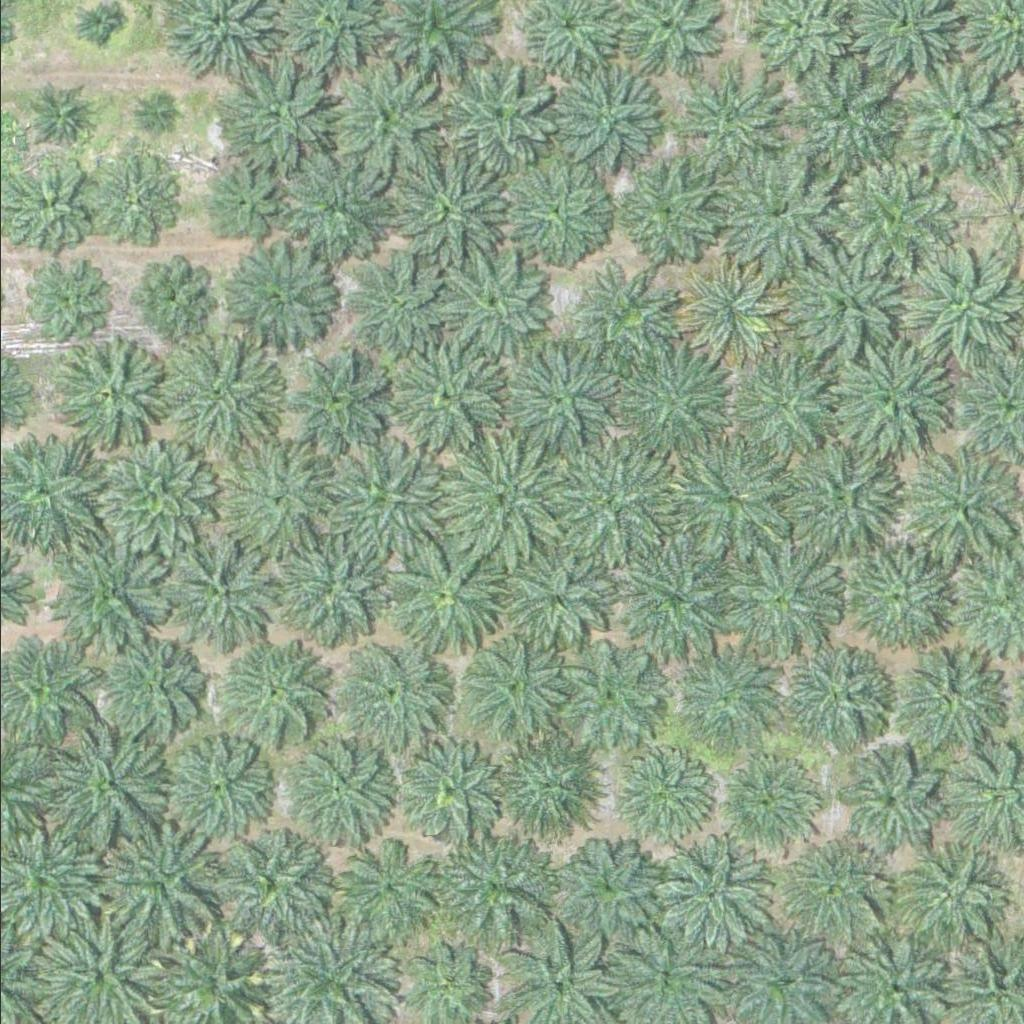Kelapa_Sawit: (196, 822, 322, 947), (664, 435, 790, 560), (545, 441, 671, 566), (443, 435, 568, 560), (839, 546, 953, 659), (905, 452, 1019, 565), (724, 538, 838, 651), (57, 735, 170, 848), (336, 634, 449, 747), (386, 543, 499, 656), (281, 533, 394, 646), (163, 530, 276, 643), (57, 333, 170, 446), (217, 236, 330, 349), (389, 154, 502, 267), (288, 140, 401, 253), (886, 840, 999, 953), (655, 835, 768, 948), (459, 629, 572, 742), (500, 543, 613, 656), (619, 545, 732, 658), (781, 438, 894, 551), (836, 339, 949, 452), (788, 56, 901, 169), (896, 64, 1009, 177), (835, 160, 948, 273), (670, 254, 783, 367), (437, 251, 550, 364), (717, 156, 830, 269), (612, 152, 725, 265), (227, 54, 341, 166), (444, 824, 558, 936), (493, 729, 607, 841), (557, 635, 671, 747), (104, 829, 217, 941), (173, 736, 286, 848), (286, 732, 399, 844), (59, 539, 172, 651), (332, 442, 445, 554), (223, 440, 336, 552), (104, 438, 217, 550), (167, 336, 280, 448), (330, 65, 443, 177), (888, 641, 1001, 753), (726, 351, 839, 463), (617, 341, 730, 453), (506, 341, 619, 453), (394, 340, 507, 452), (786, 247, 899, 359), (908, 248, 1021, 360), (672, 64, 785, 176), (440, 60, 553, 172), (229, 647, 330, 747), (105, 638, 206, 738), (282, 350, 383, 450), (781, 840, 882, 940), (841, 748, 942, 848), (504, 162, 605, 262), (559, 69, 660, 169), (341, 838, 441, 938), (400, 741, 500, 841), (788, 643, 888, 743), (560, 843, 660, 943), (716, 748, 816, 848), (609, 744, 709, 844), (677, 649, 777, 749), (92, 154, 180, 242), (579, 272, 668, 359), (348, 259, 436, 346), (134, 262, 210, 337), (415, 945, 491, 1020), (19, 264, 95, 339), (201, 160, 277, 235), (37, 91, 87, 141), (138, 99, 176, 137), (76, 4, 114, 41)
